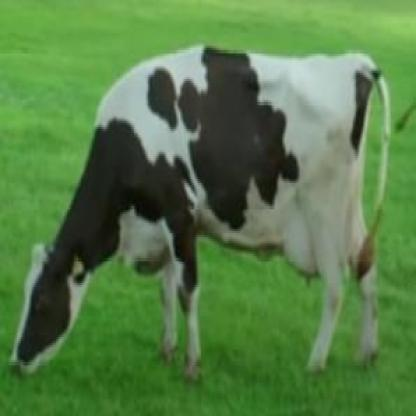cow: (11, 53, 390, 380)
